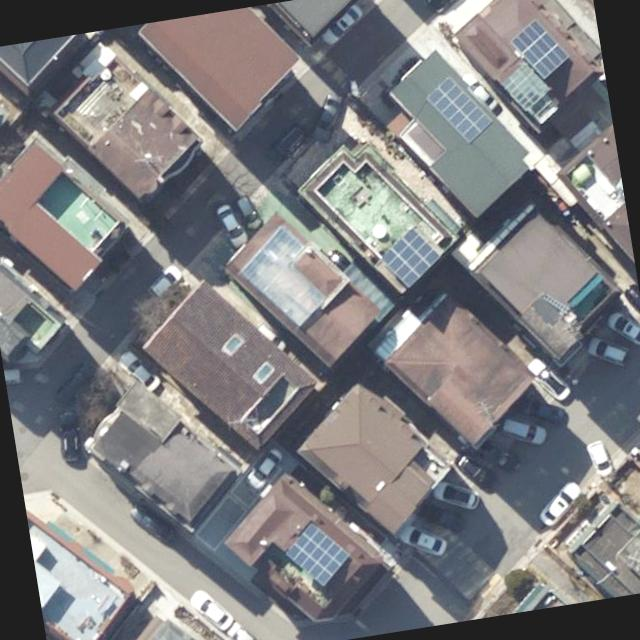solar: (422, 69, 498, 151), (280, 516, 356, 592), (374, 222, 447, 292), (505, 14, 574, 86)
